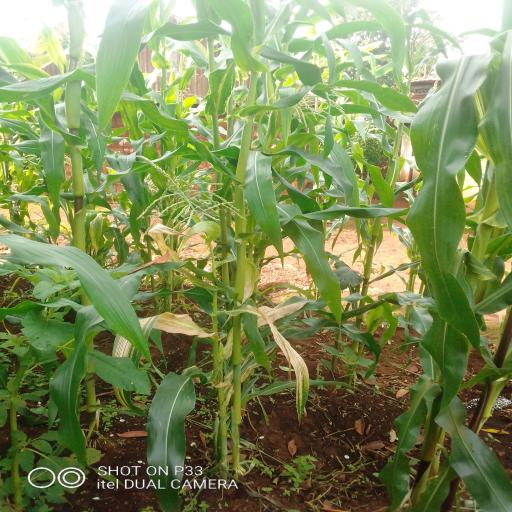Corn_Streak: (108, 314, 212, 410), (243, 303, 310, 413)
